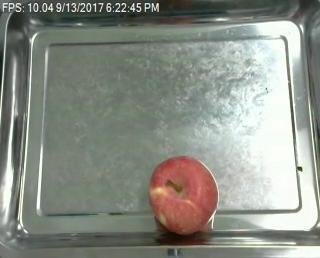apple: (148, 155, 218, 235)
